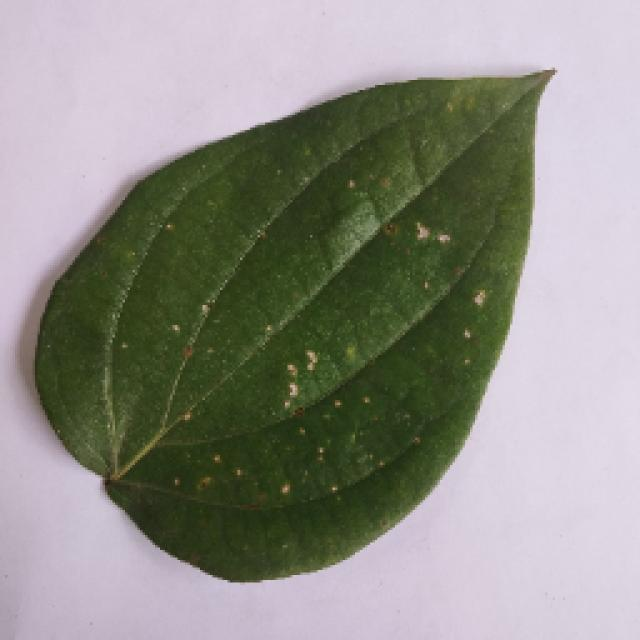pollu-disease: (15, 75, 585, 593)
